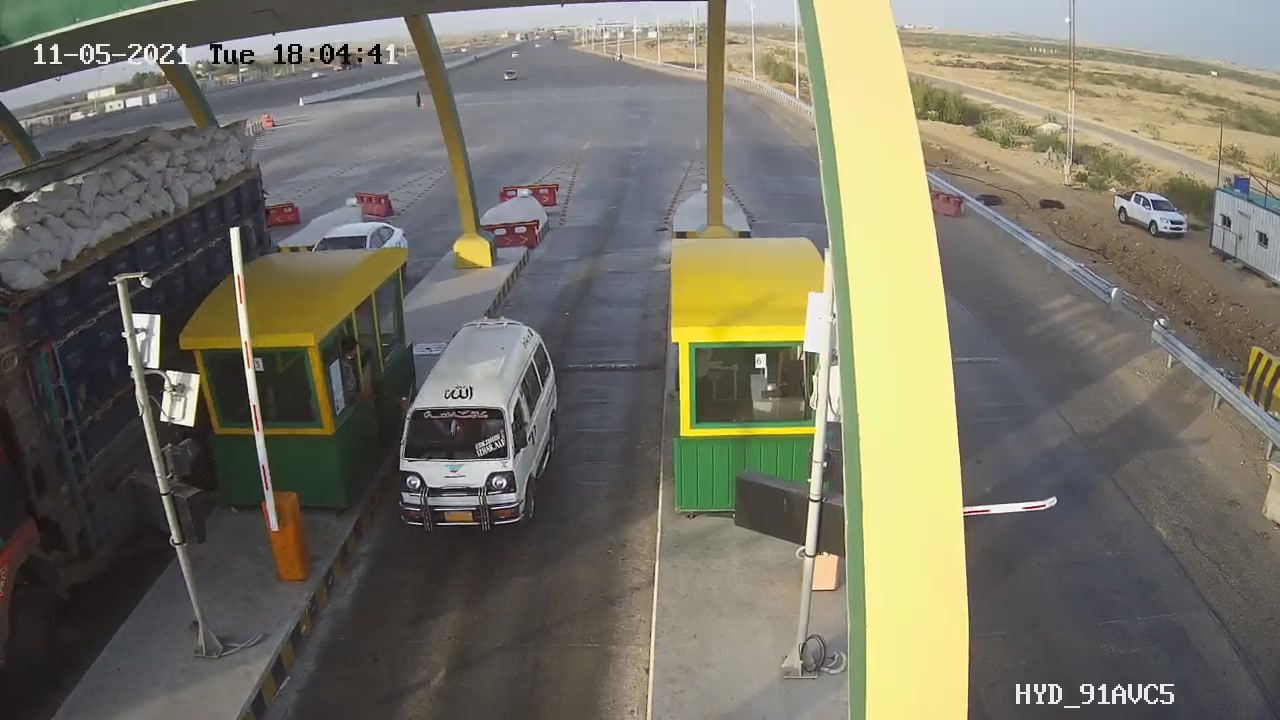F1: (385, 307, 576, 549)
